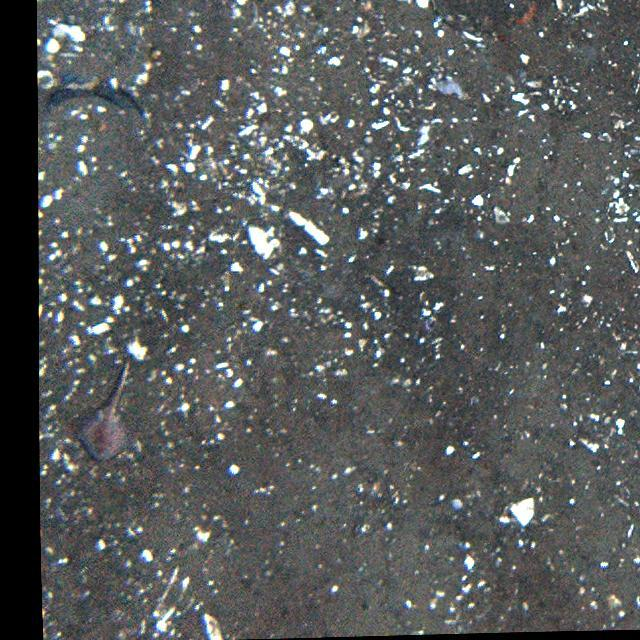skate: (78, 355, 140, 464)
